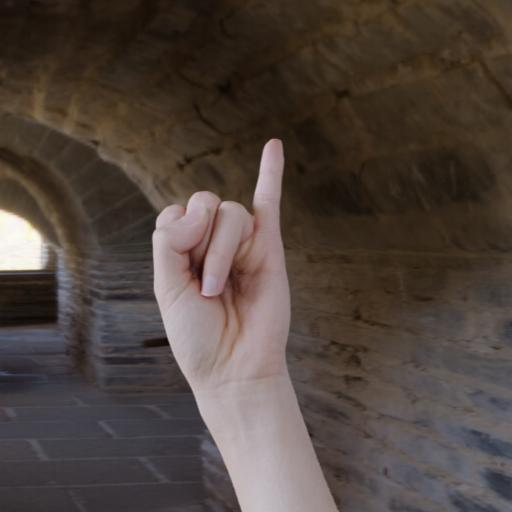I: (136, 111, 311, 395)
